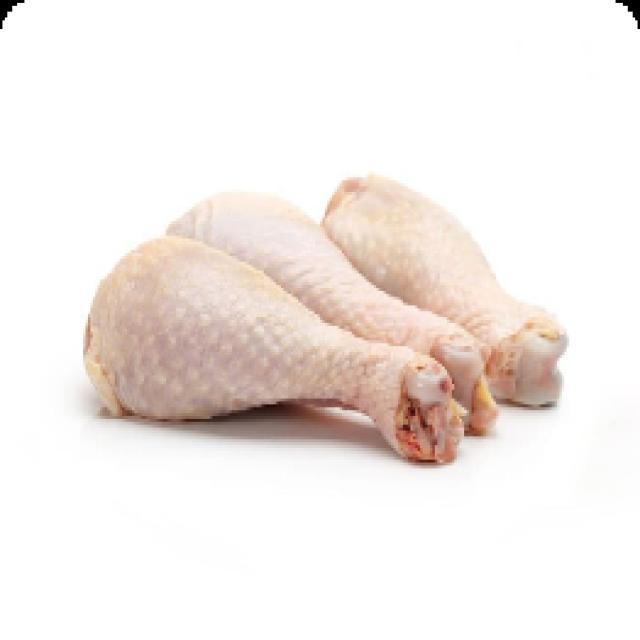chicken breast: (86, 173, 562, 470), (86, 236, 458, 470)
